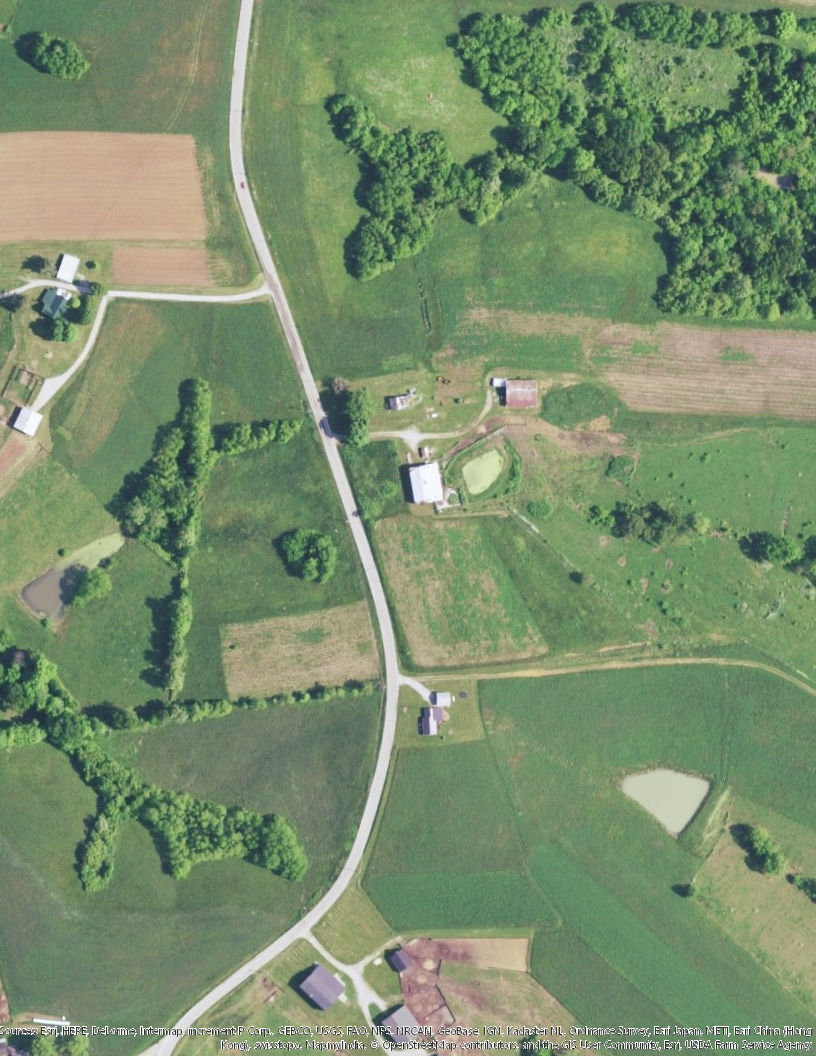cafo: (405, 457, 458, 510), (490, 377, 545, 409)
